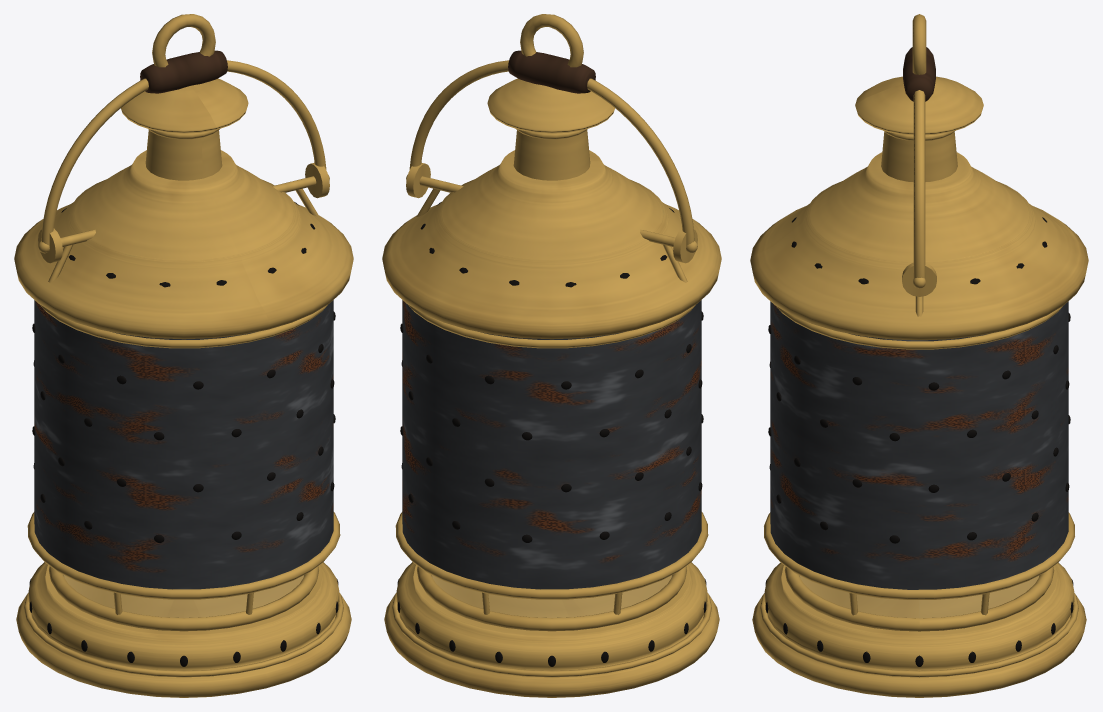
File: lantern.glb
The picture shows the model from 3 angles, left to right: view 1: azimuth 30°, elevation 25°; view 2: azimuth 150°, elevation 25°; view 3: azimuth 270°, elevation 25°; orthographic projection.
Visible parts, largest first — view 1: lantern; view 2: lantern; view 3: lantern.
Boxes of the visible parts, x1=… form: lantern: x1=14, y1=14, x2=353, y2=697; lantern: x1=382, y1=14, x2=721, y2=697; lantern: x1=750, y1=14, x2=1088, y2=697.
Bounding box in the file's own units: 0.163 × 0.3273 × 0.163.
Materials: 8 (5 with a texture image).
